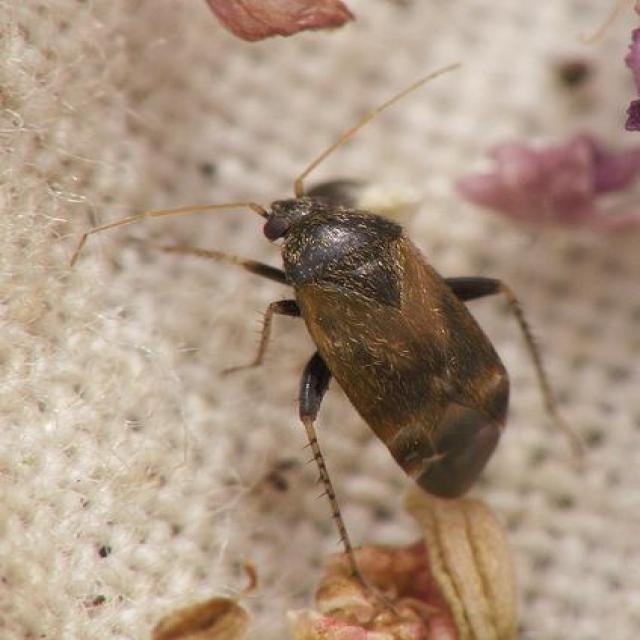Miridae-Adult-: (68, 63, 589, 508)
